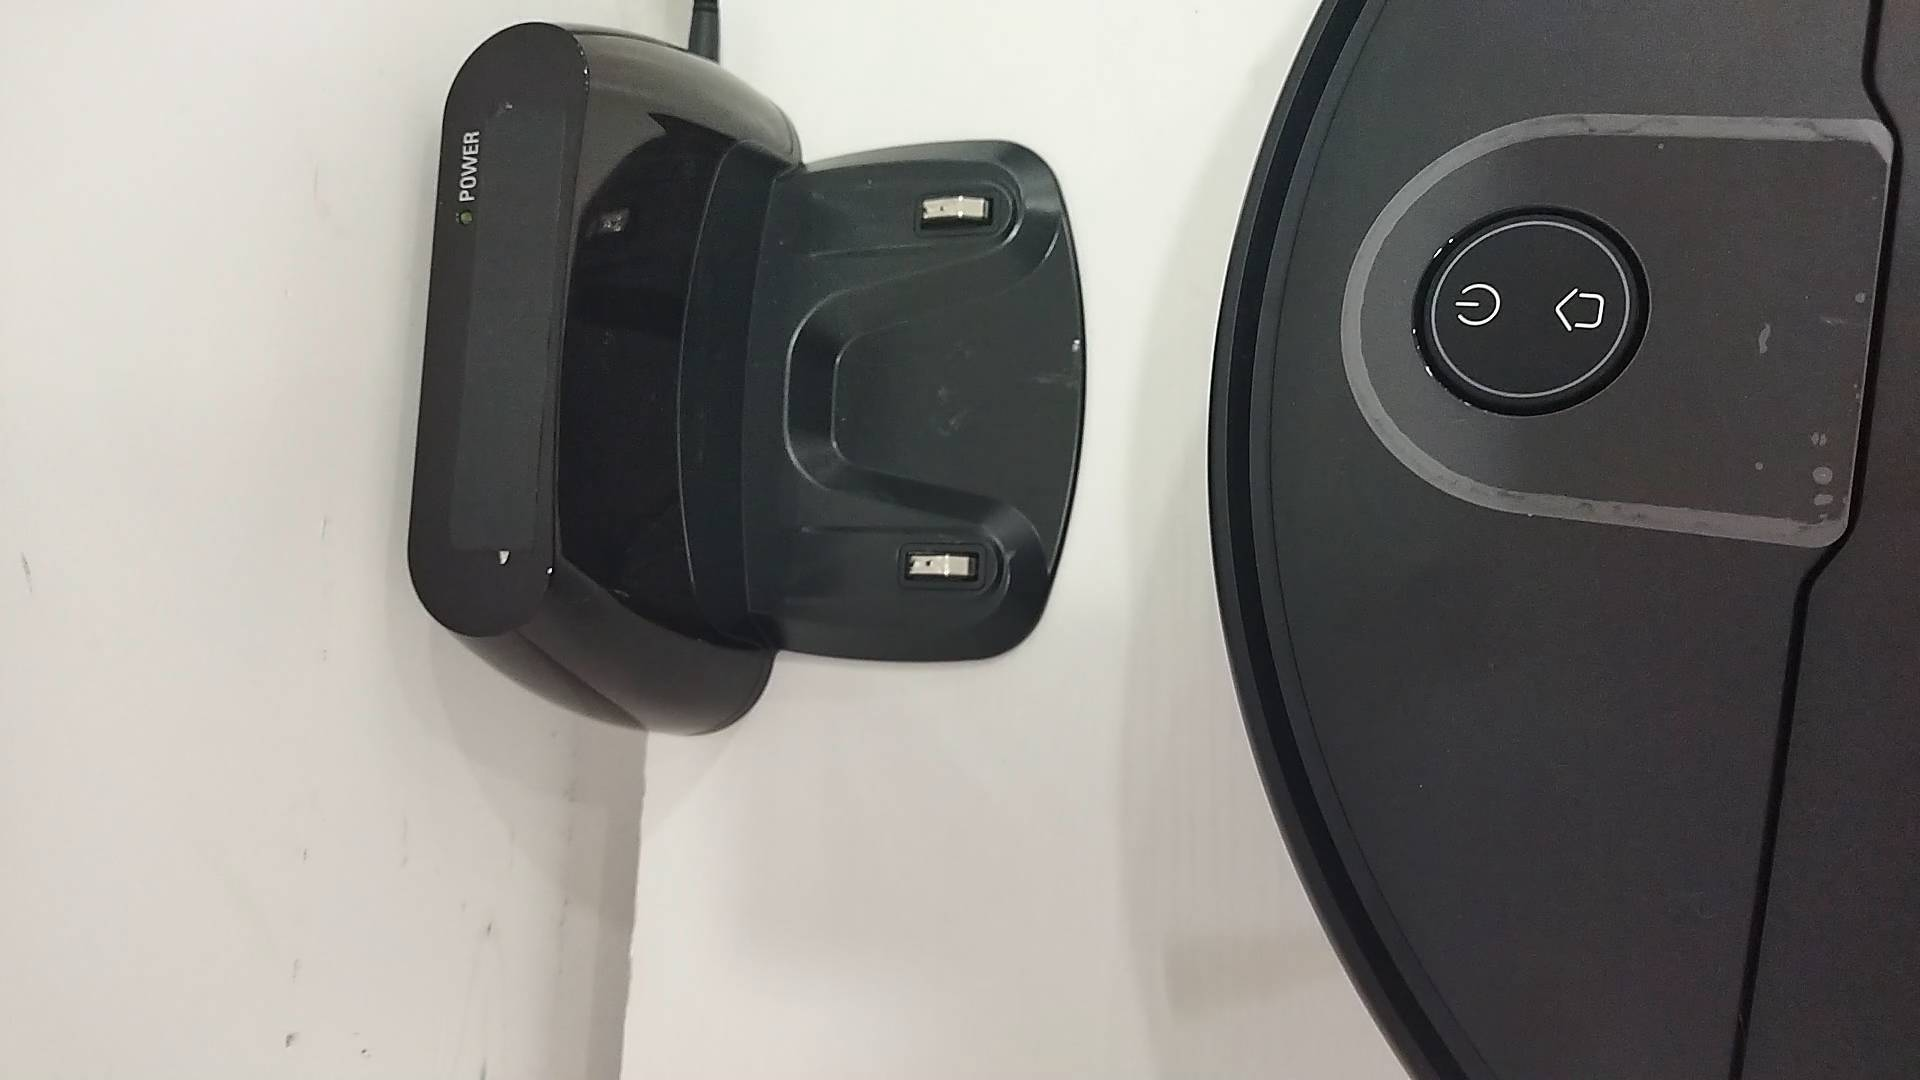recharge seat: (407, 20, 1091, 746)
